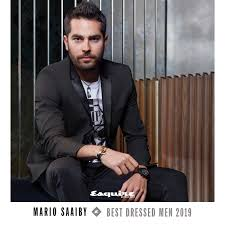middle_eastern_male: (61, 10, 112, 66)
